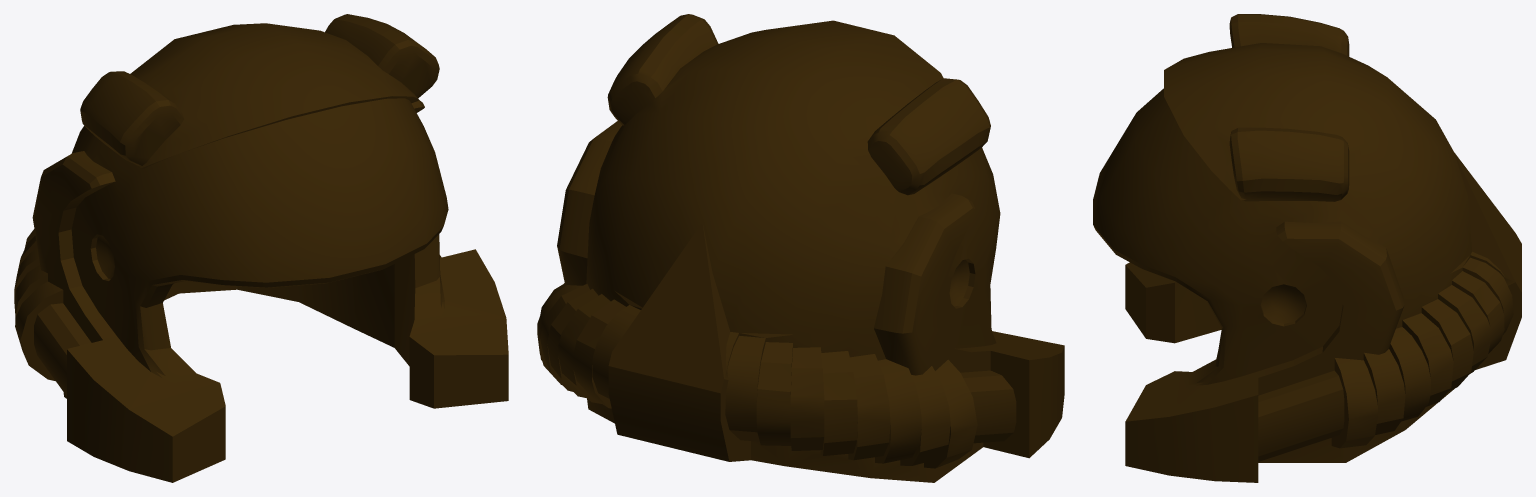
3 renders of one model, left to right at view 1: azimuth 30°, elevation 25°; view 2: azimuth 150°, elevation 25°; view 3: azimuth 270°, elevation 25°, orthographic. The views are drawn at different scales.
Visible parts, largest first — view 1: 30325.dat; view 2: 30325.dat; view 3: 30325.dat.
Part boxes in pixels (x1,y1,x2,y2): 30325.dat: (14, 14, 508, 482); 30325.dat: (537, 14, 1064, 482); 30325.dat: (1093, 14, 1521, 482).
Bounding box in the file's own units: 1.56 × 1.23 × 1.48.
